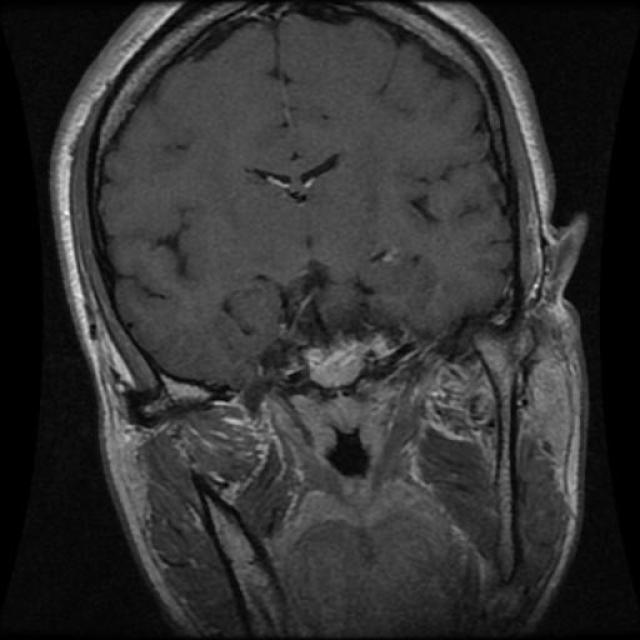pituitary: (286, 331, 405, 444)
